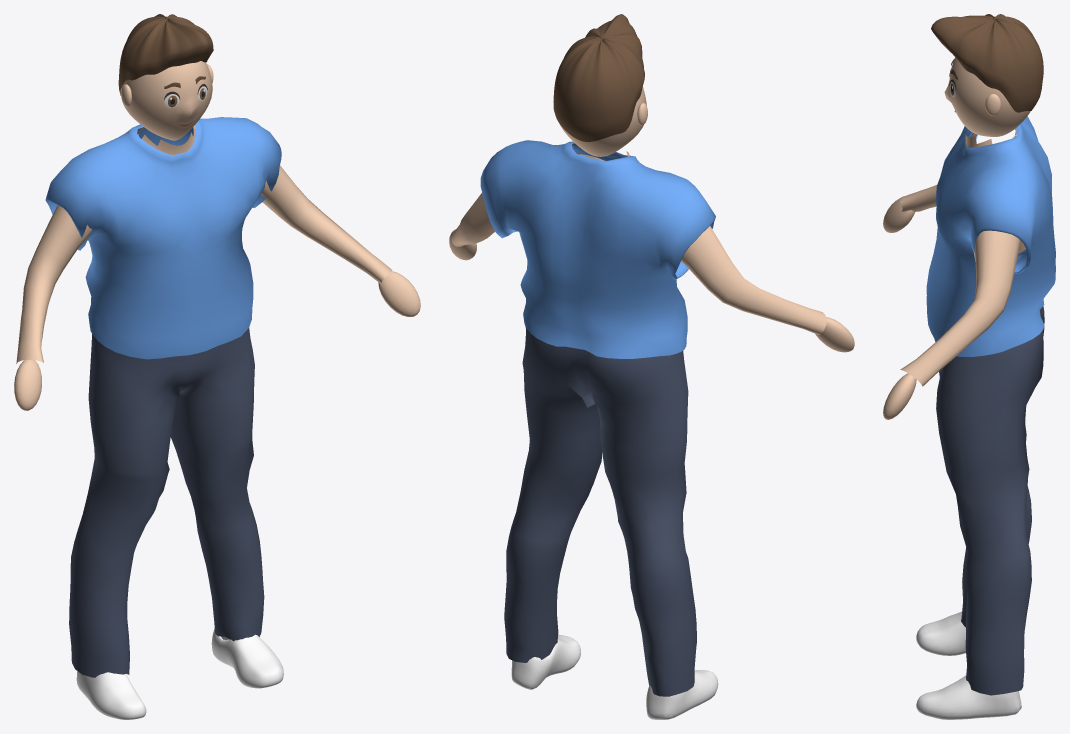
The model's file is avatar_male.glb.
The picture shows the model from 3 angles, left to right: view 1: azimuth 30°, elevation 25°; view 2: azimuth 150°, elevation 25°; view 3: azimuth 270°, elevation 25°; orthographic projection.
Parts seen in each view (by area): view 1: Bottom, Top, Body, Shoes, Hair; view 2: Bottom, Top, Body, Hair, Shoes; view 3: Bottom, Top, Body, Hair, Shoes.
Part boxes in pixels (<box>): Bottom: <box>69,328,264,677</box>; Top: <box>45,117,281,359</box>; Body: <box>14,61,420,410</box>; Shoes: <box>76,629,283,719</box>; Hair: <box>118,14,213,95</box>; Bottom: <box>504,328,696,696</box>; Top: <box>480,140,715,358</box>; Body: <box>449,86,854,352</box>; Hair: <box>553,14,644,141</box>; Shoes: <box>511,635,718,719</box>; Bottom: <box>936,306,1044,695</box>; Top: <box>926,116,1055,356</box>; Body: <box>883,57,1030,419</box>; Hair: <box>931,14,1043,112</box>; Shoes: <box>916,611,1021,719</box>.
Bounding box in the file's own units: 1.16 × 1.83 × 0.4285.
